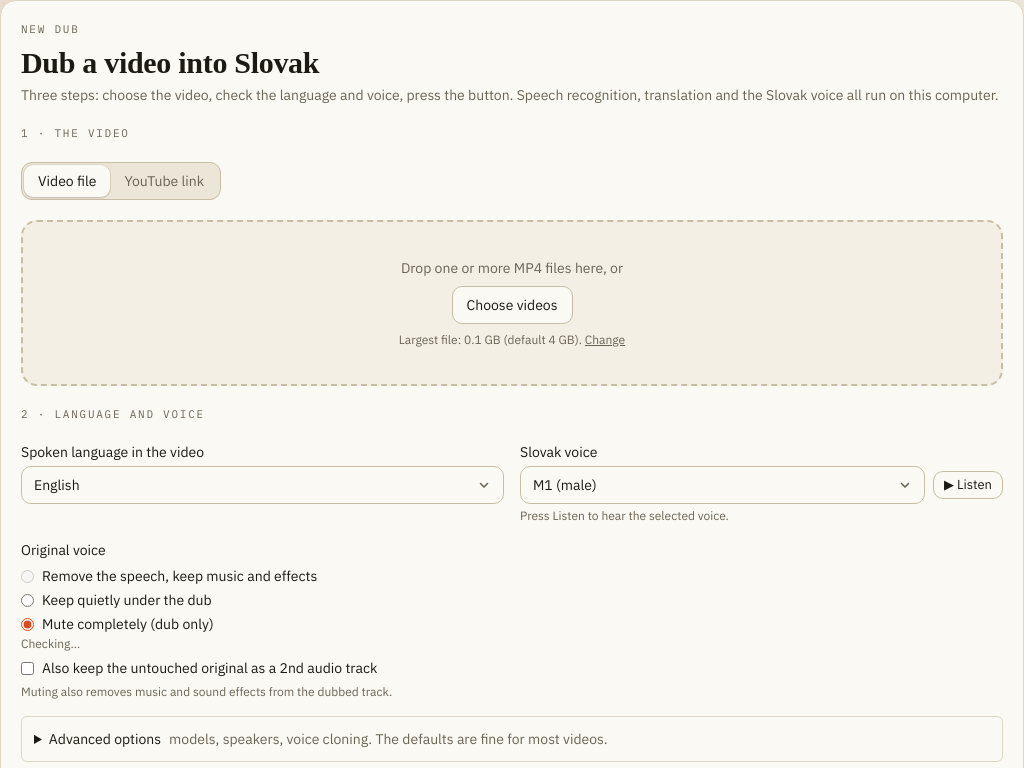
Test: NewProject with a YouTube link › goes back to uploading a file with the other tab
The width and height of the screenshot is (1024, 768).
Step 1. Click the tab "YouTube link" → (164, 180), box x1=110 y1=164 x2=218 y2=196
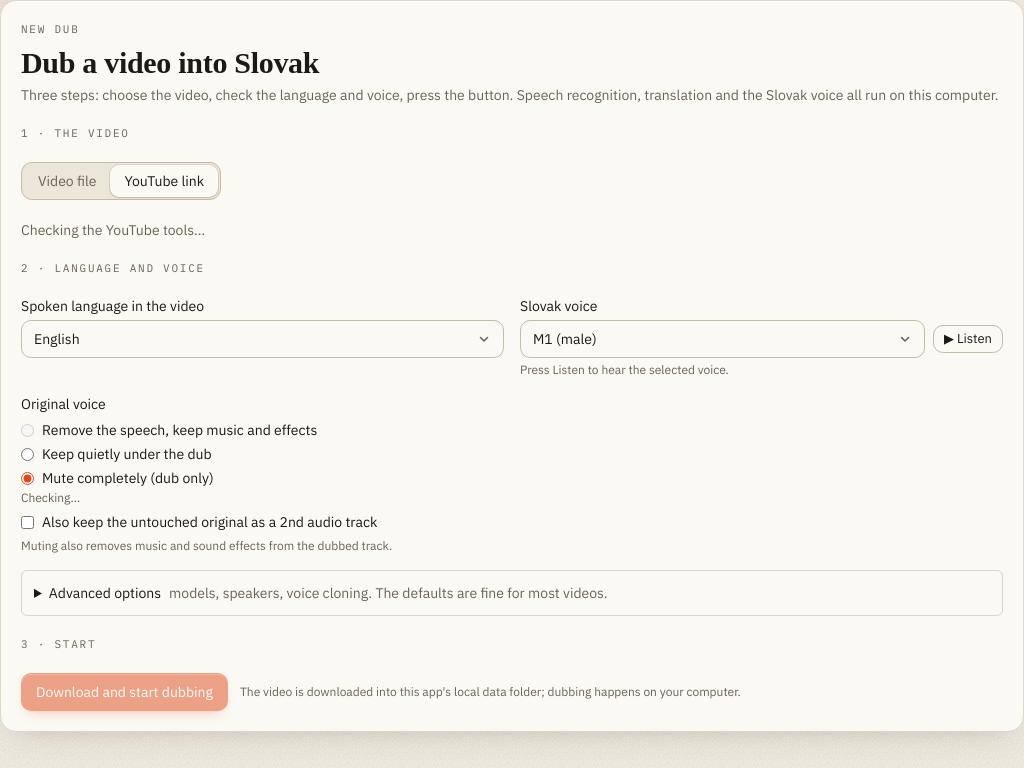
Step 2. Click the tab "Video file" → (67, 180), box x1=24 y1=164 x2=110 y2=196
(page scrolled)
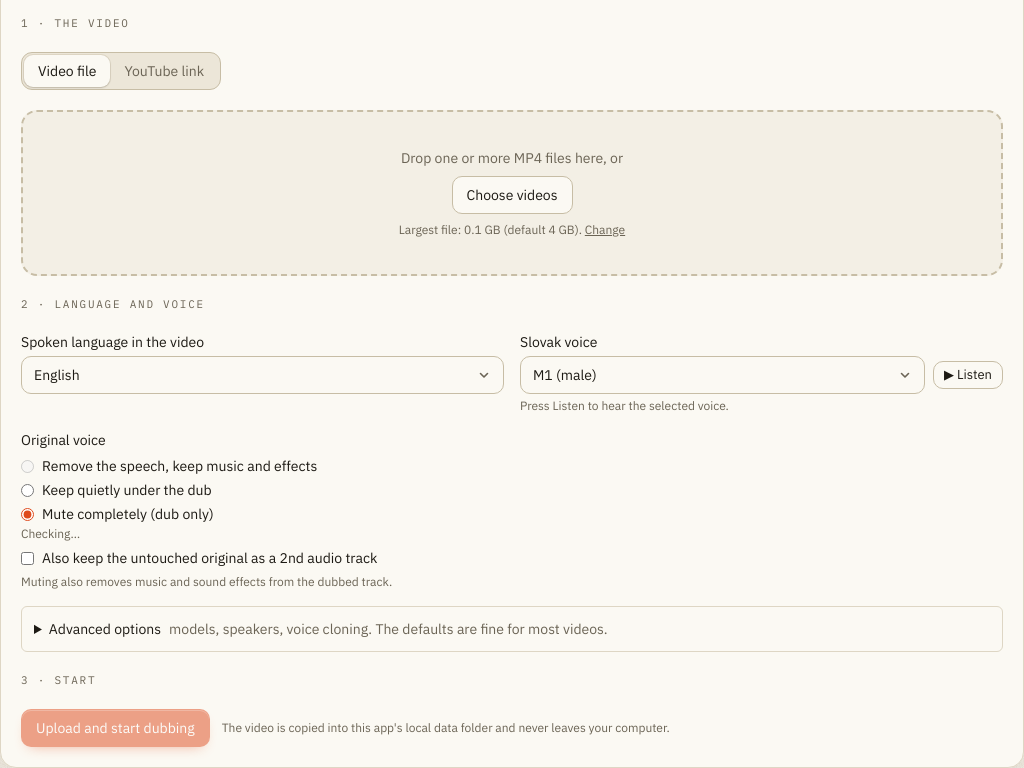
Expected: the button "Upload and start dubbing" is shown, x1=21 y1=708 x2=210 y2=746
